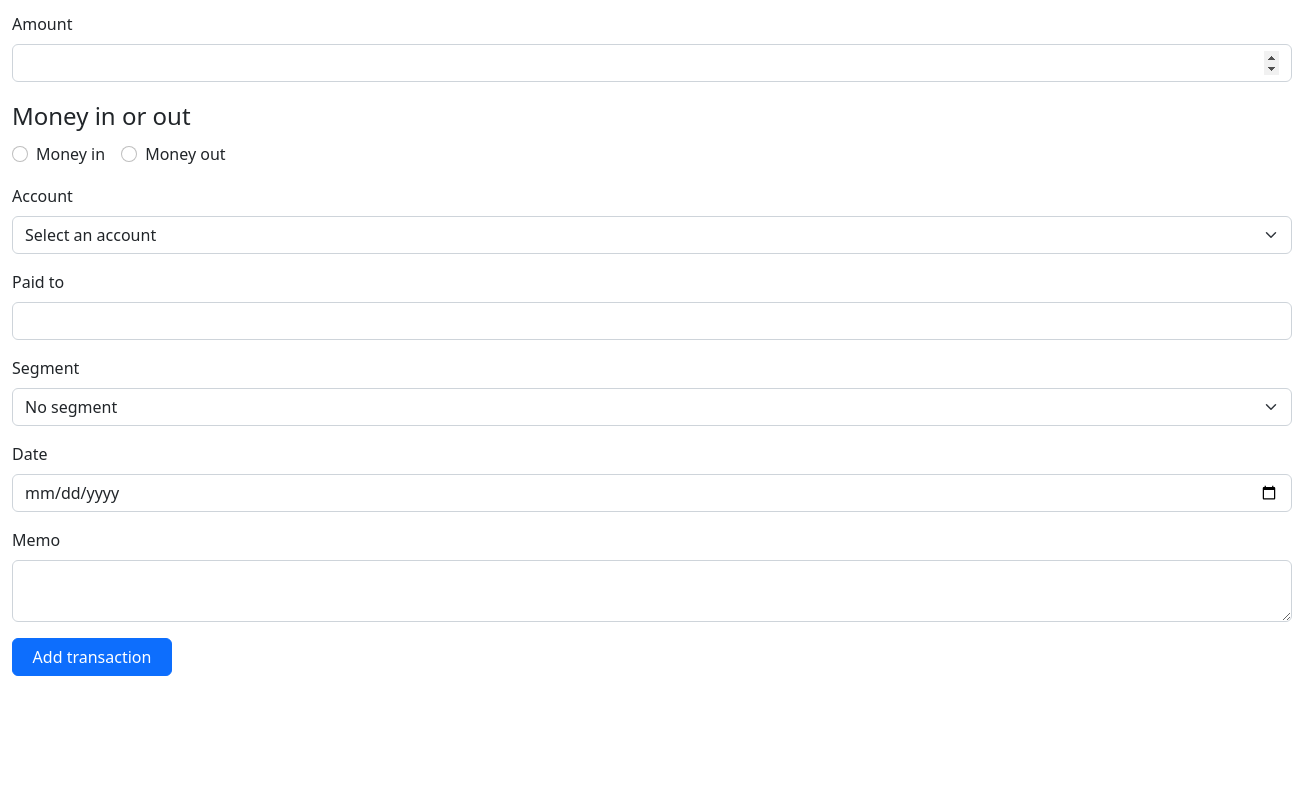
submitting with each required field missing shows inline validation only for that field, no error view
Click the button "Add transaction".
click(92, 657)  # box [12, 638, 172, 676]
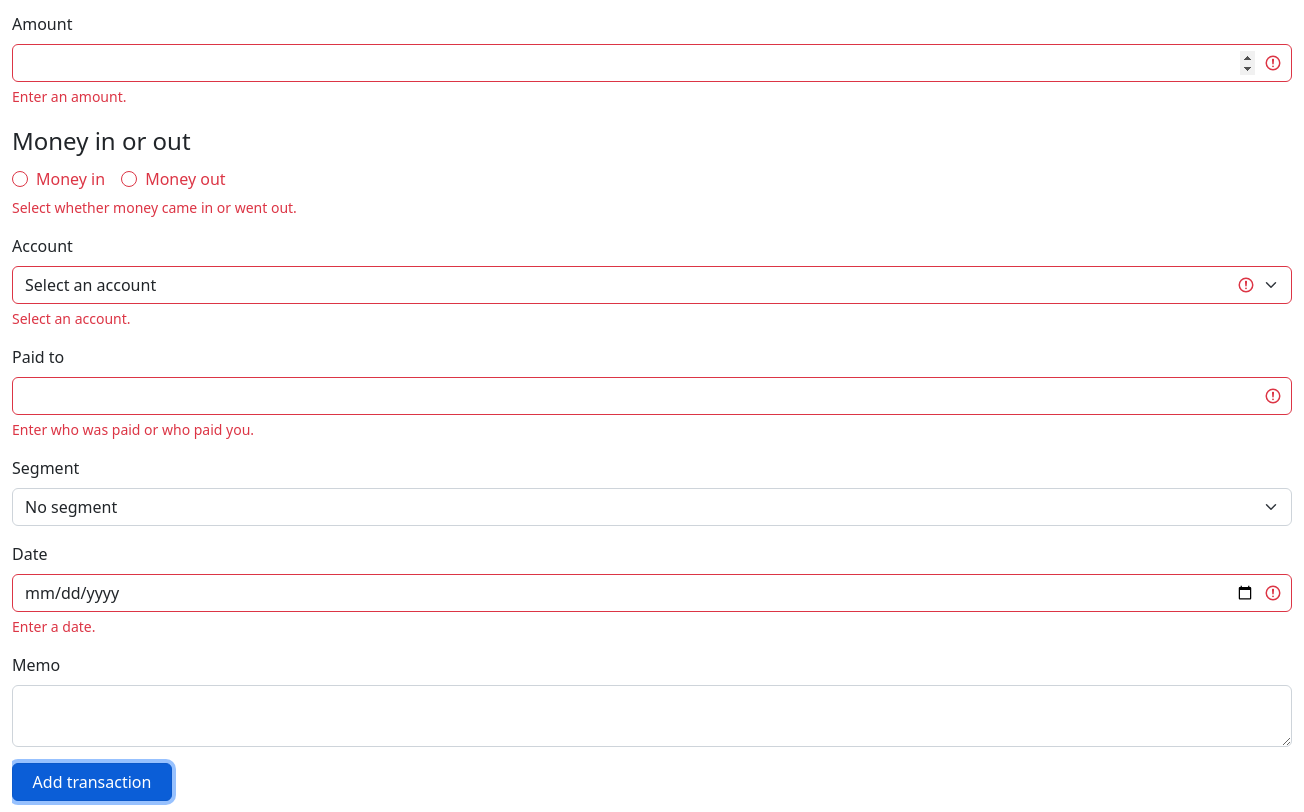
Result: the text "Enter an amount." is shown at [12, 87, 126, 106]
Result: the text "Select whether money came in or went out." is shown at [12, 198, 297, 217]
Result: the text "Select an account." is shown at [12, 309, 130, 328]
Fixing one field clears only that field's error.
Type "10" into the number field labelled "Amount".
click(652, 63); type("10")  # box [12, 44, 1292, 82]
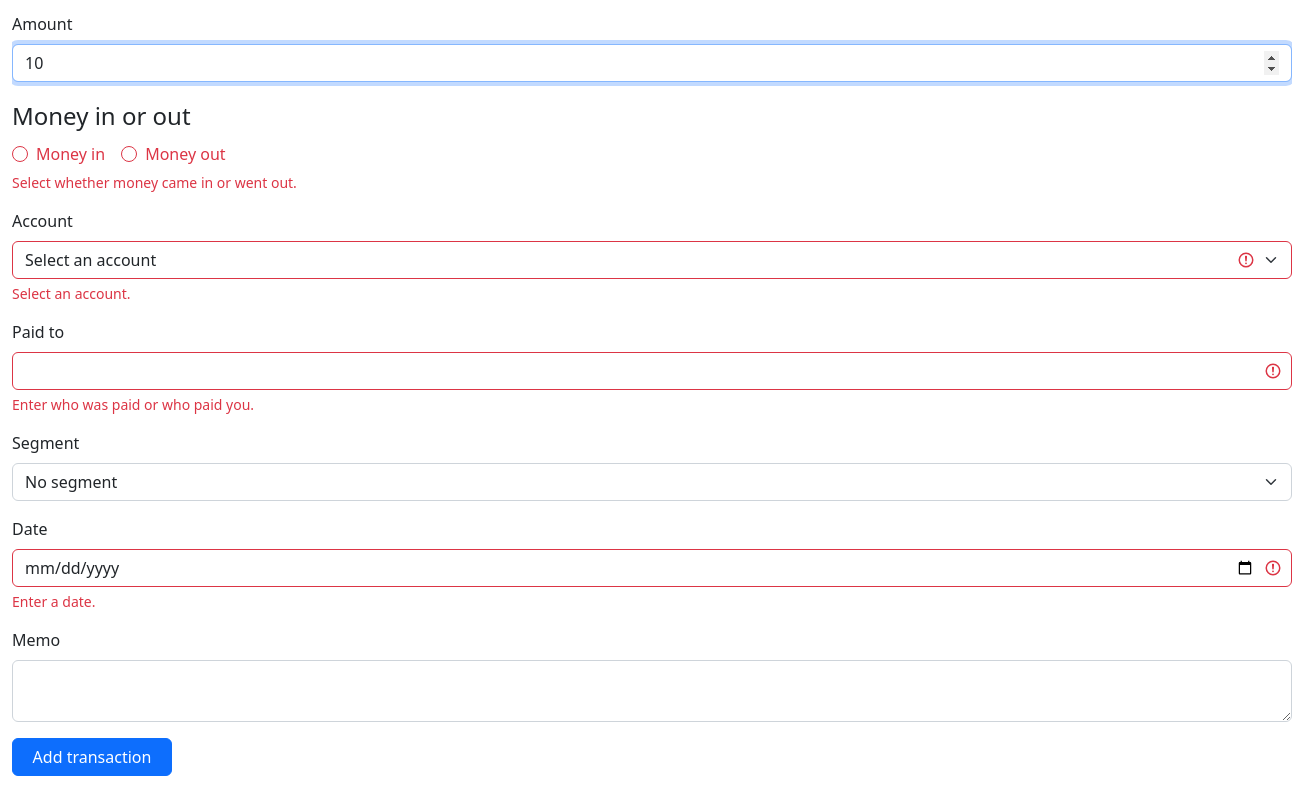
Result: the text "Select an account." is shown at [12, 284, 130, 303]
Result: the text "Enter an amount." is gone
